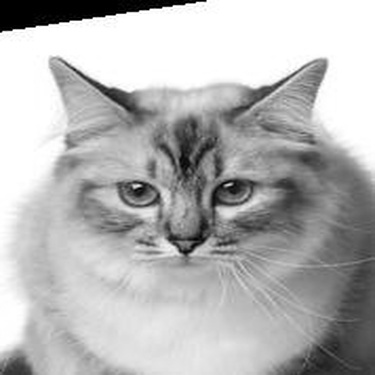cat: (5, 54, 367, 367)
